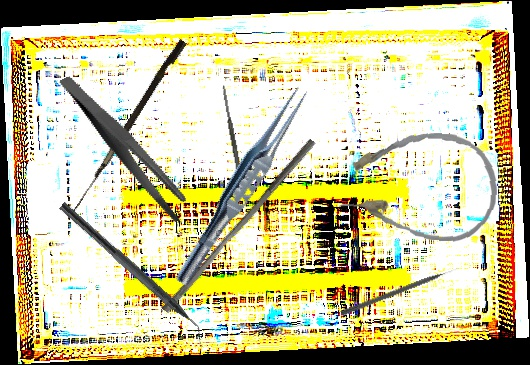Cannula: (337, 126, 501, 245)
Chopper: (49, 201, 216, 350)
Dressing Forceps: (58, 53, 194, 242)
Hook Surgical: (70, 37, 187, 221)
Pusher: (161, 132, 316, 319), (339, 265, 461, 318)
Spatula Surgical: (220, 84, 247, 196)
Tissue Forceps: (170, 80, 315, 292)
